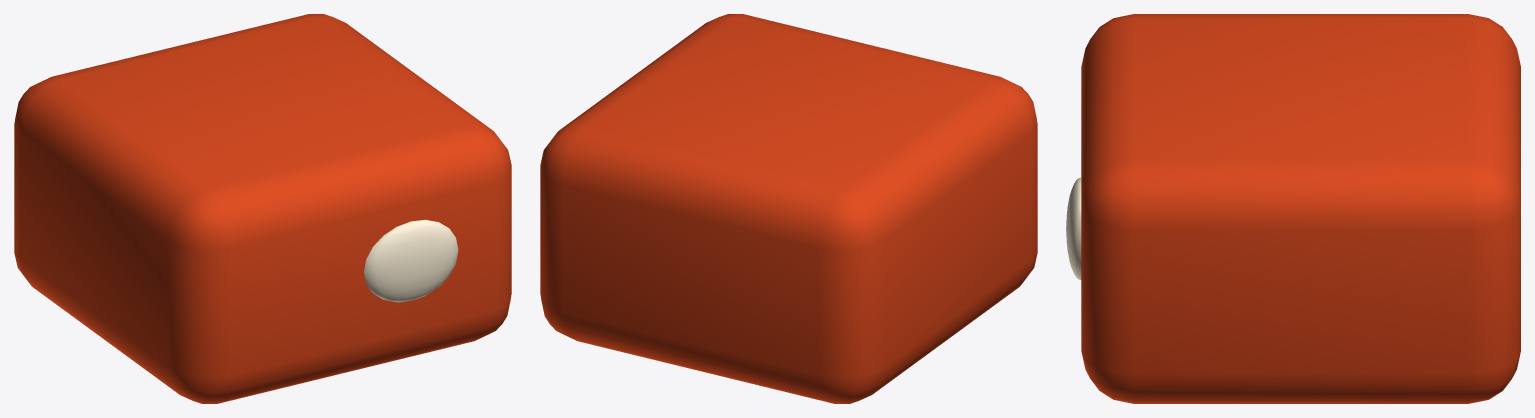
File: plat_mush_m.glb
3 renders of one model, left to right at view 1: azimuth 30°, elevation 25°; view 2: azimuth 150°, elevation 25°; view 3: azimuth 270°, elevation 25°, orthographic. The views are drawn at different scales.
Parts seen in each view (by area): view 1: cap, spot; view 2: cap; view 3: cap, spot.
Boxes of the visible parts, x1,y1,x2,y2 form: cap: [14, 14, 511, 403]; spot: [364, 219, 458, 302]; cap: [540, 14, 1037, 403]; cap: [1081, 14, 1520, 403]; spot: [1066, 177, 1081, 279].
Size of the model in its own units: 1 by 0.6001 by 1.04.
